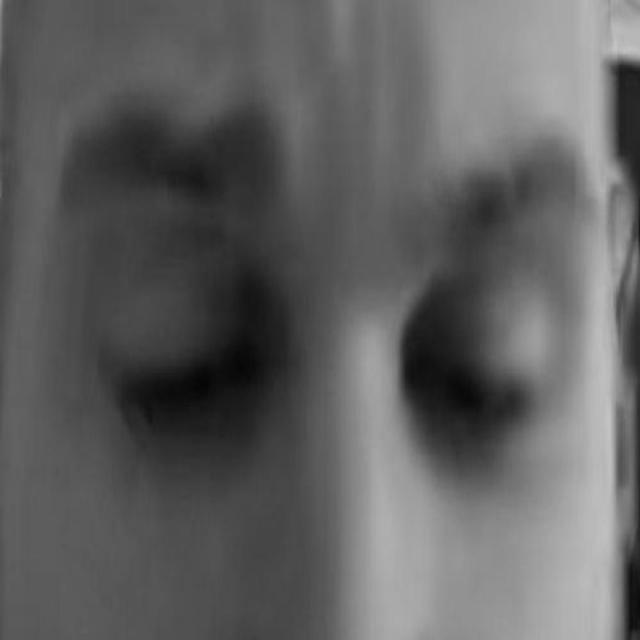real: (78, 150, 592, 546)
